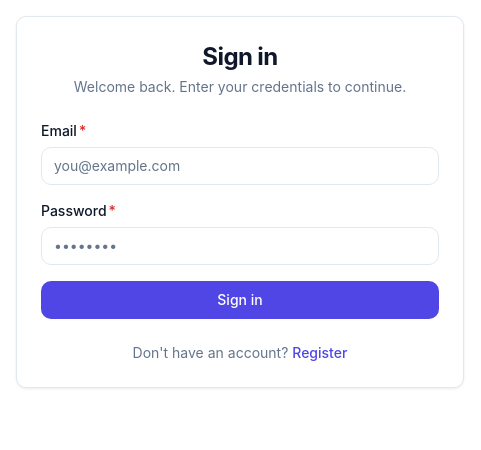
Scenario: LoginPage › shows validation errors for invalid email and empty password without calling API
Type "not-an-email" into the field labelled "Email*" at (240, 166), box [41,147,439,185]
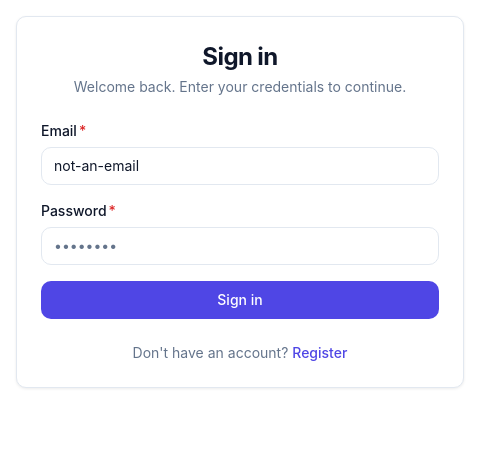
Click the button "Sign in" at (240, 300), box [41,281,439,319]
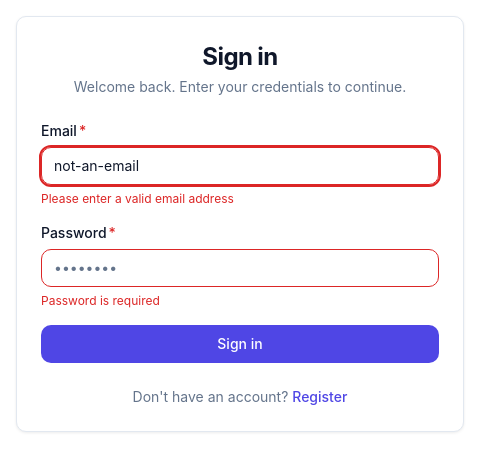
Result: the text "Please enter a valid email address" is shown at [41,191,234,206]
Result: the text "Password is required" is shown at [41,293,160,308]
